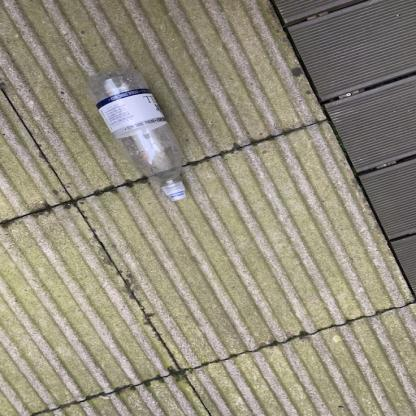trash: (85, 63, 191, 205)
